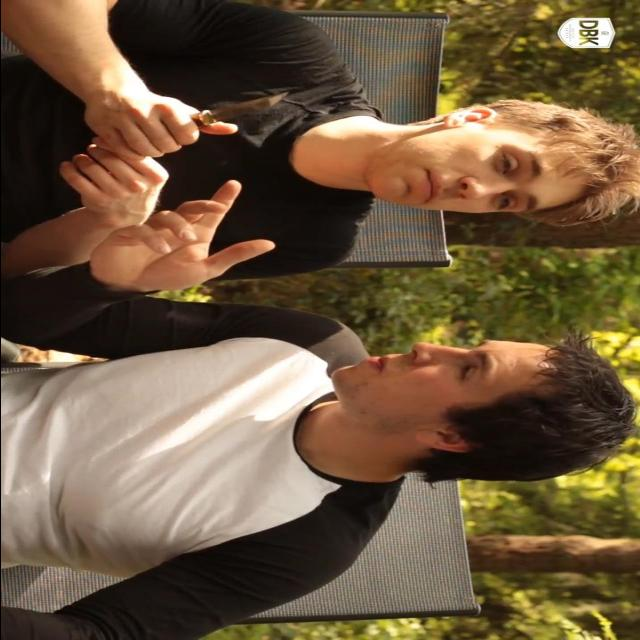Sharp-Object: (138, 84, 320, 157)
